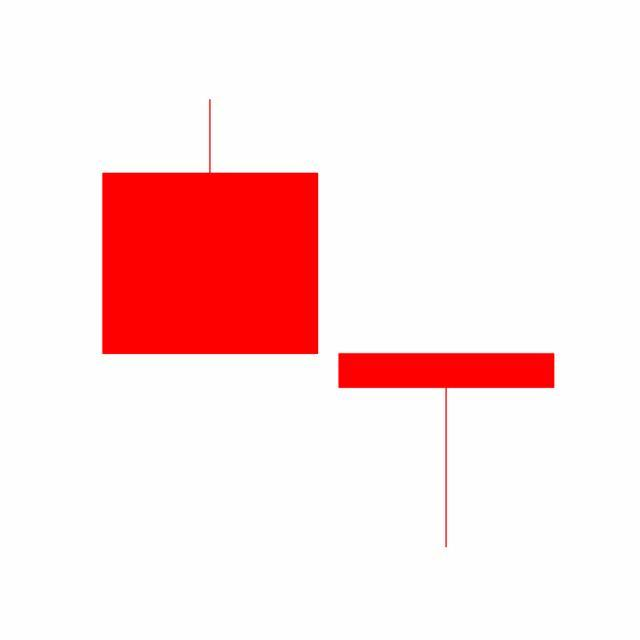Hammer: (328, 351, 566, 550)
